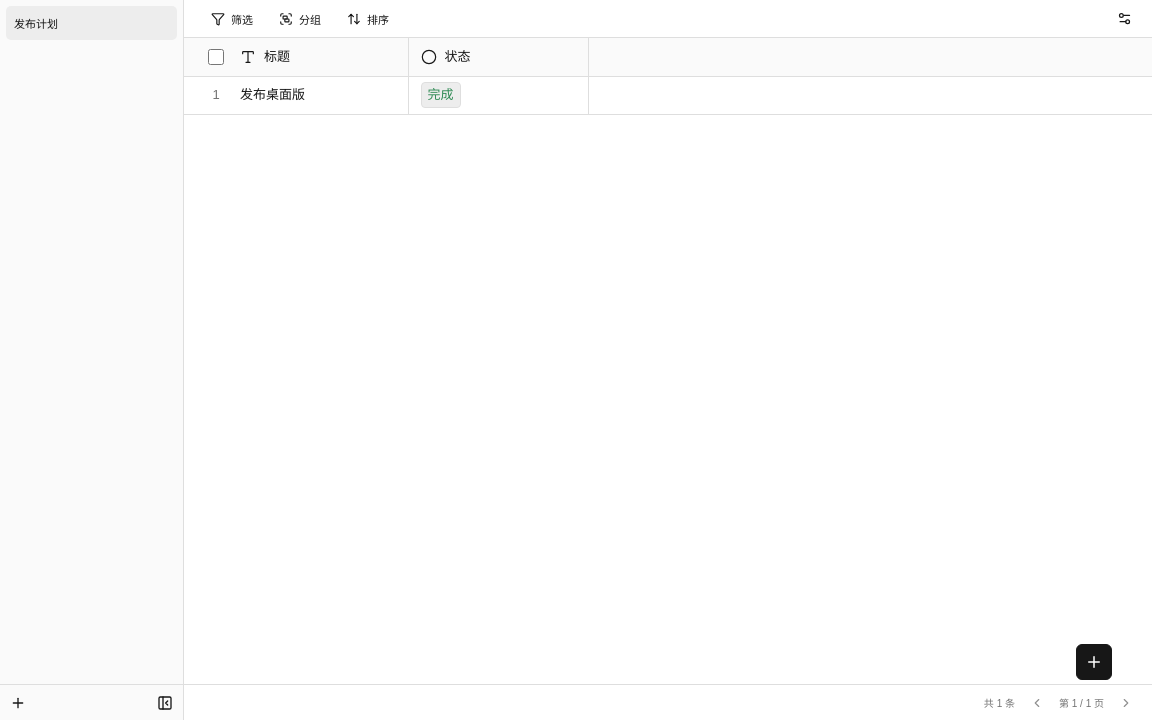
Test: TaskWorkbenchPage › renames fields only after Main confirms the table revision
This screenshot has width=1152, height=720.
Expected: the table named "发布计划" is shown, [184,38,1151,115]
Click the button named "新增字段": (1124, 18) [1110,4,1138,32]
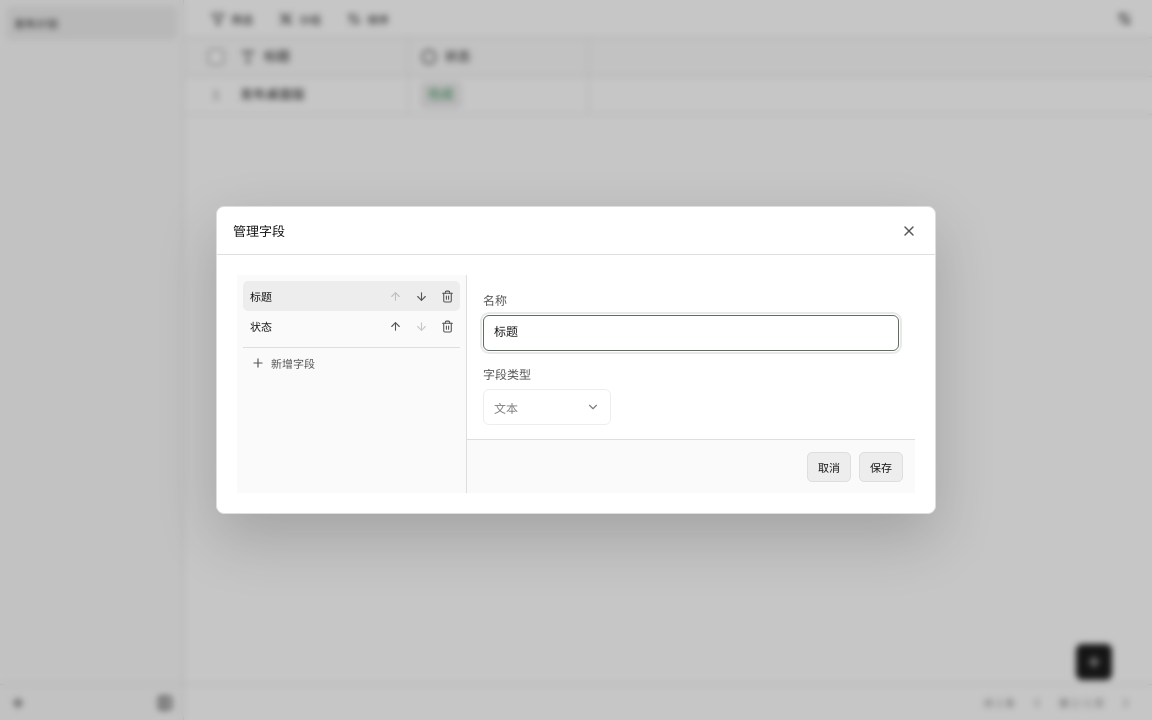
Expected: the element with class "ui-dialog__body" is shown, [217,255,935,513]
Replace the text in the field labelled "名称" with "任务标题": (691, 333) [483,315,899,351]
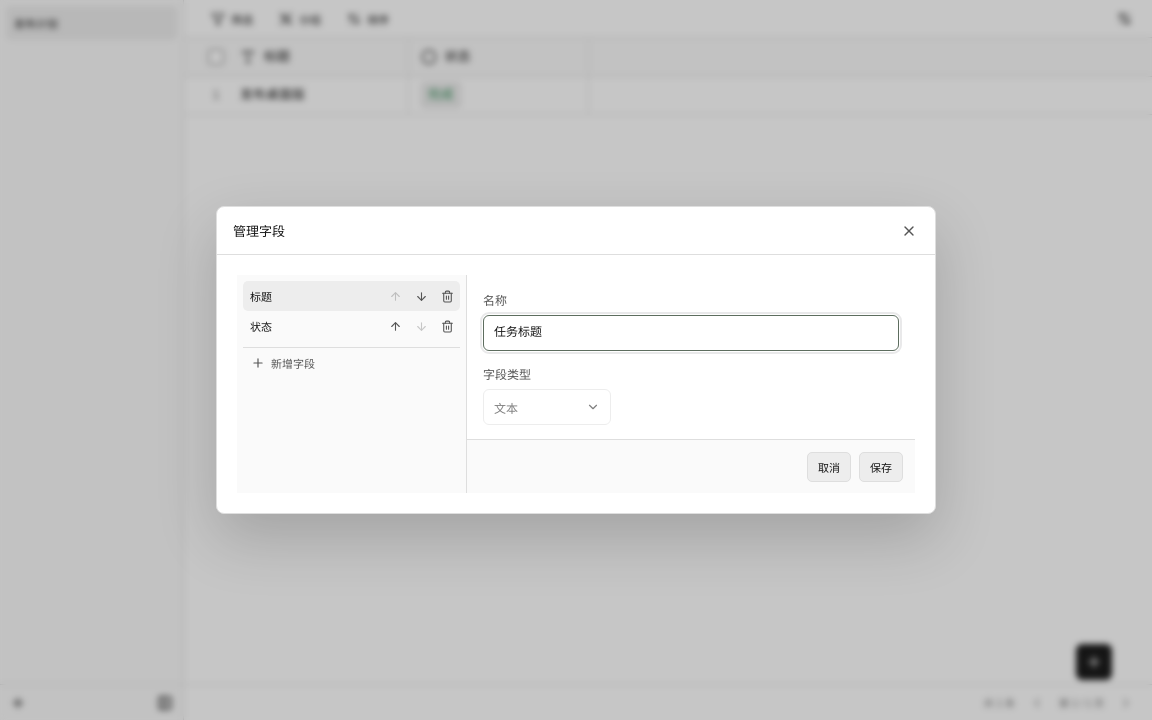
Click the button "保存": (881, 466) [859,452,903,482]
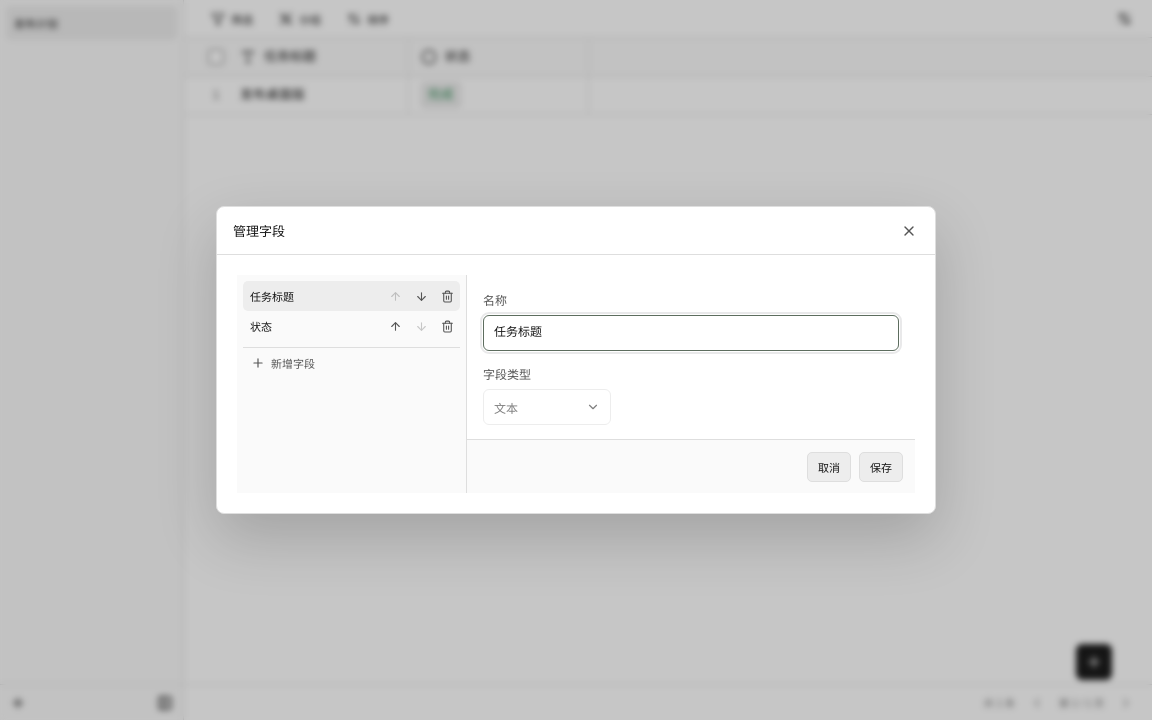
Expected: the column heading "任务标题" is shown, [228,38,408,76]
